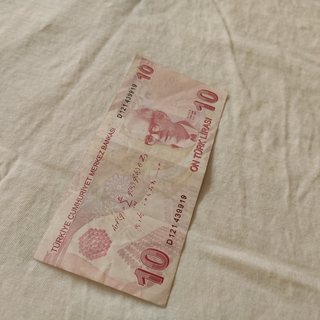10TLBack: (33, 54, 228, 307)
